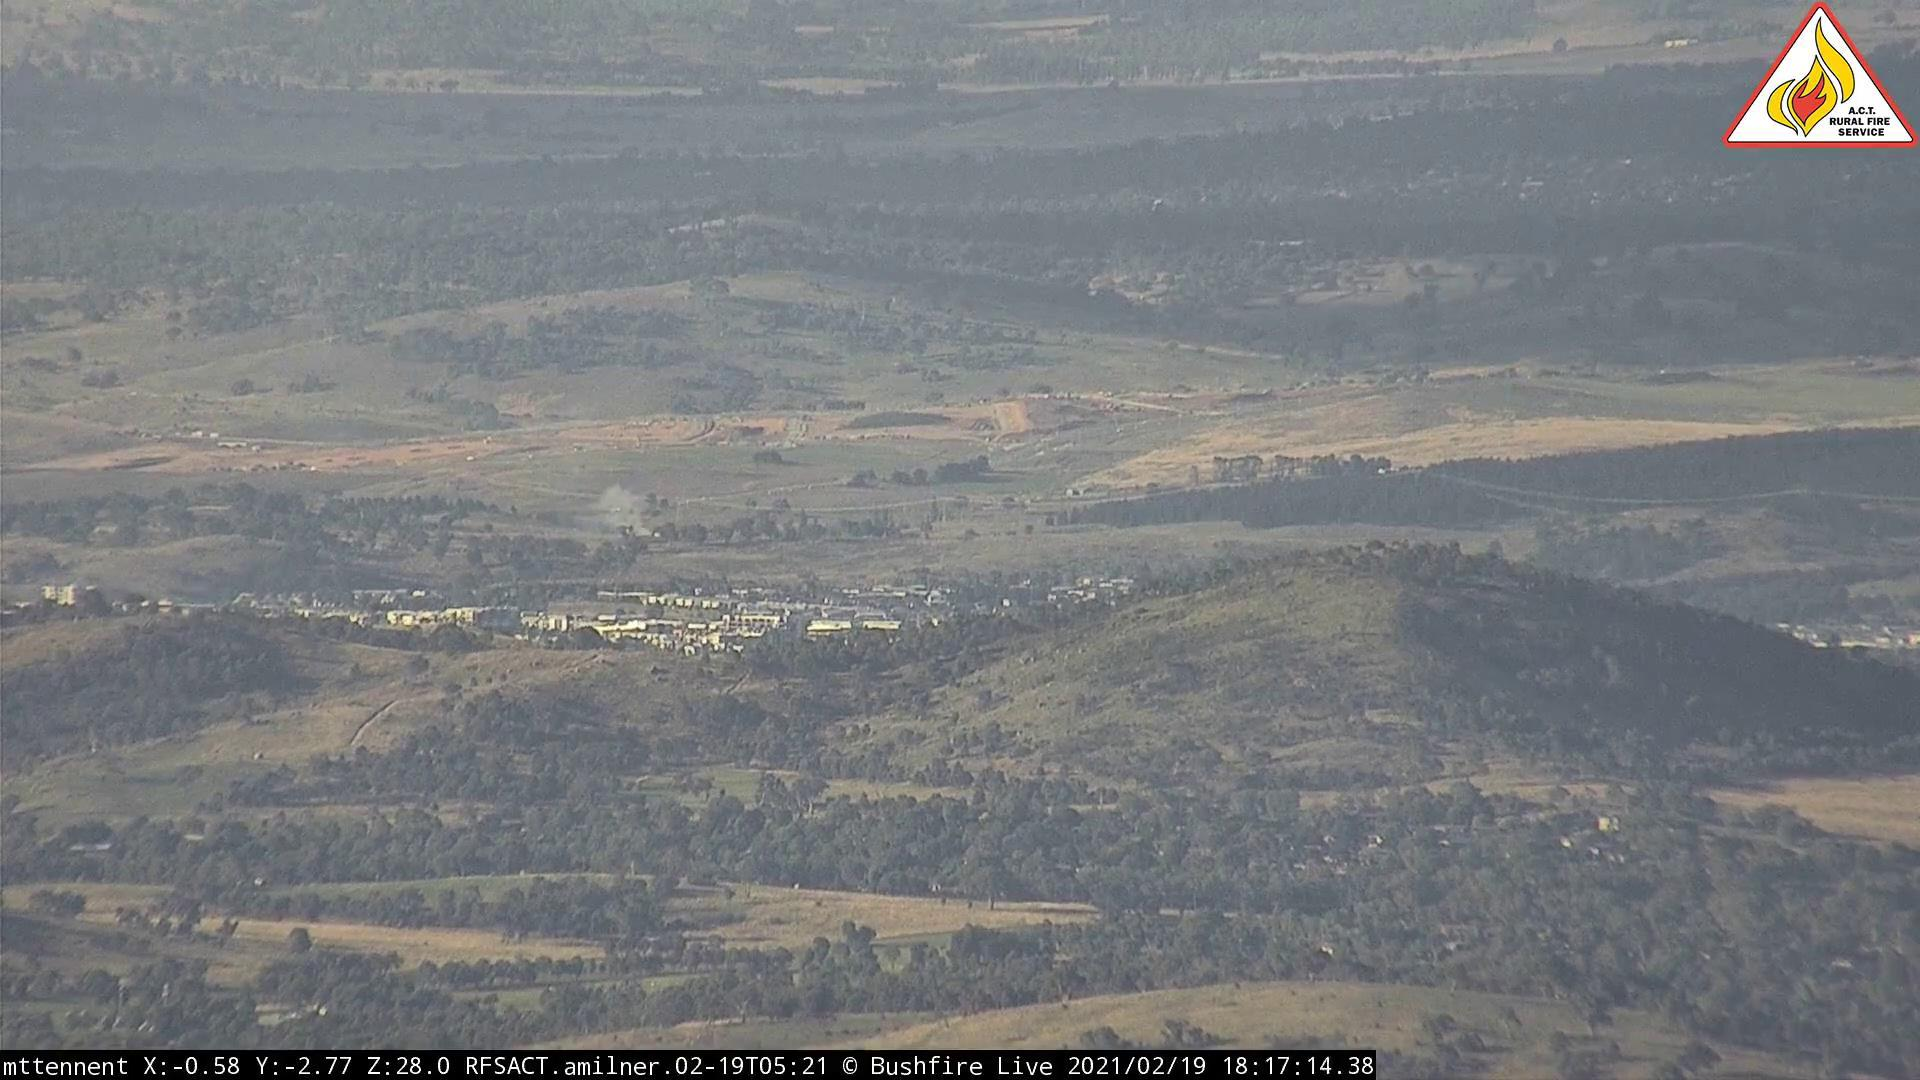Smoke: (605, 509, 675, 549)
